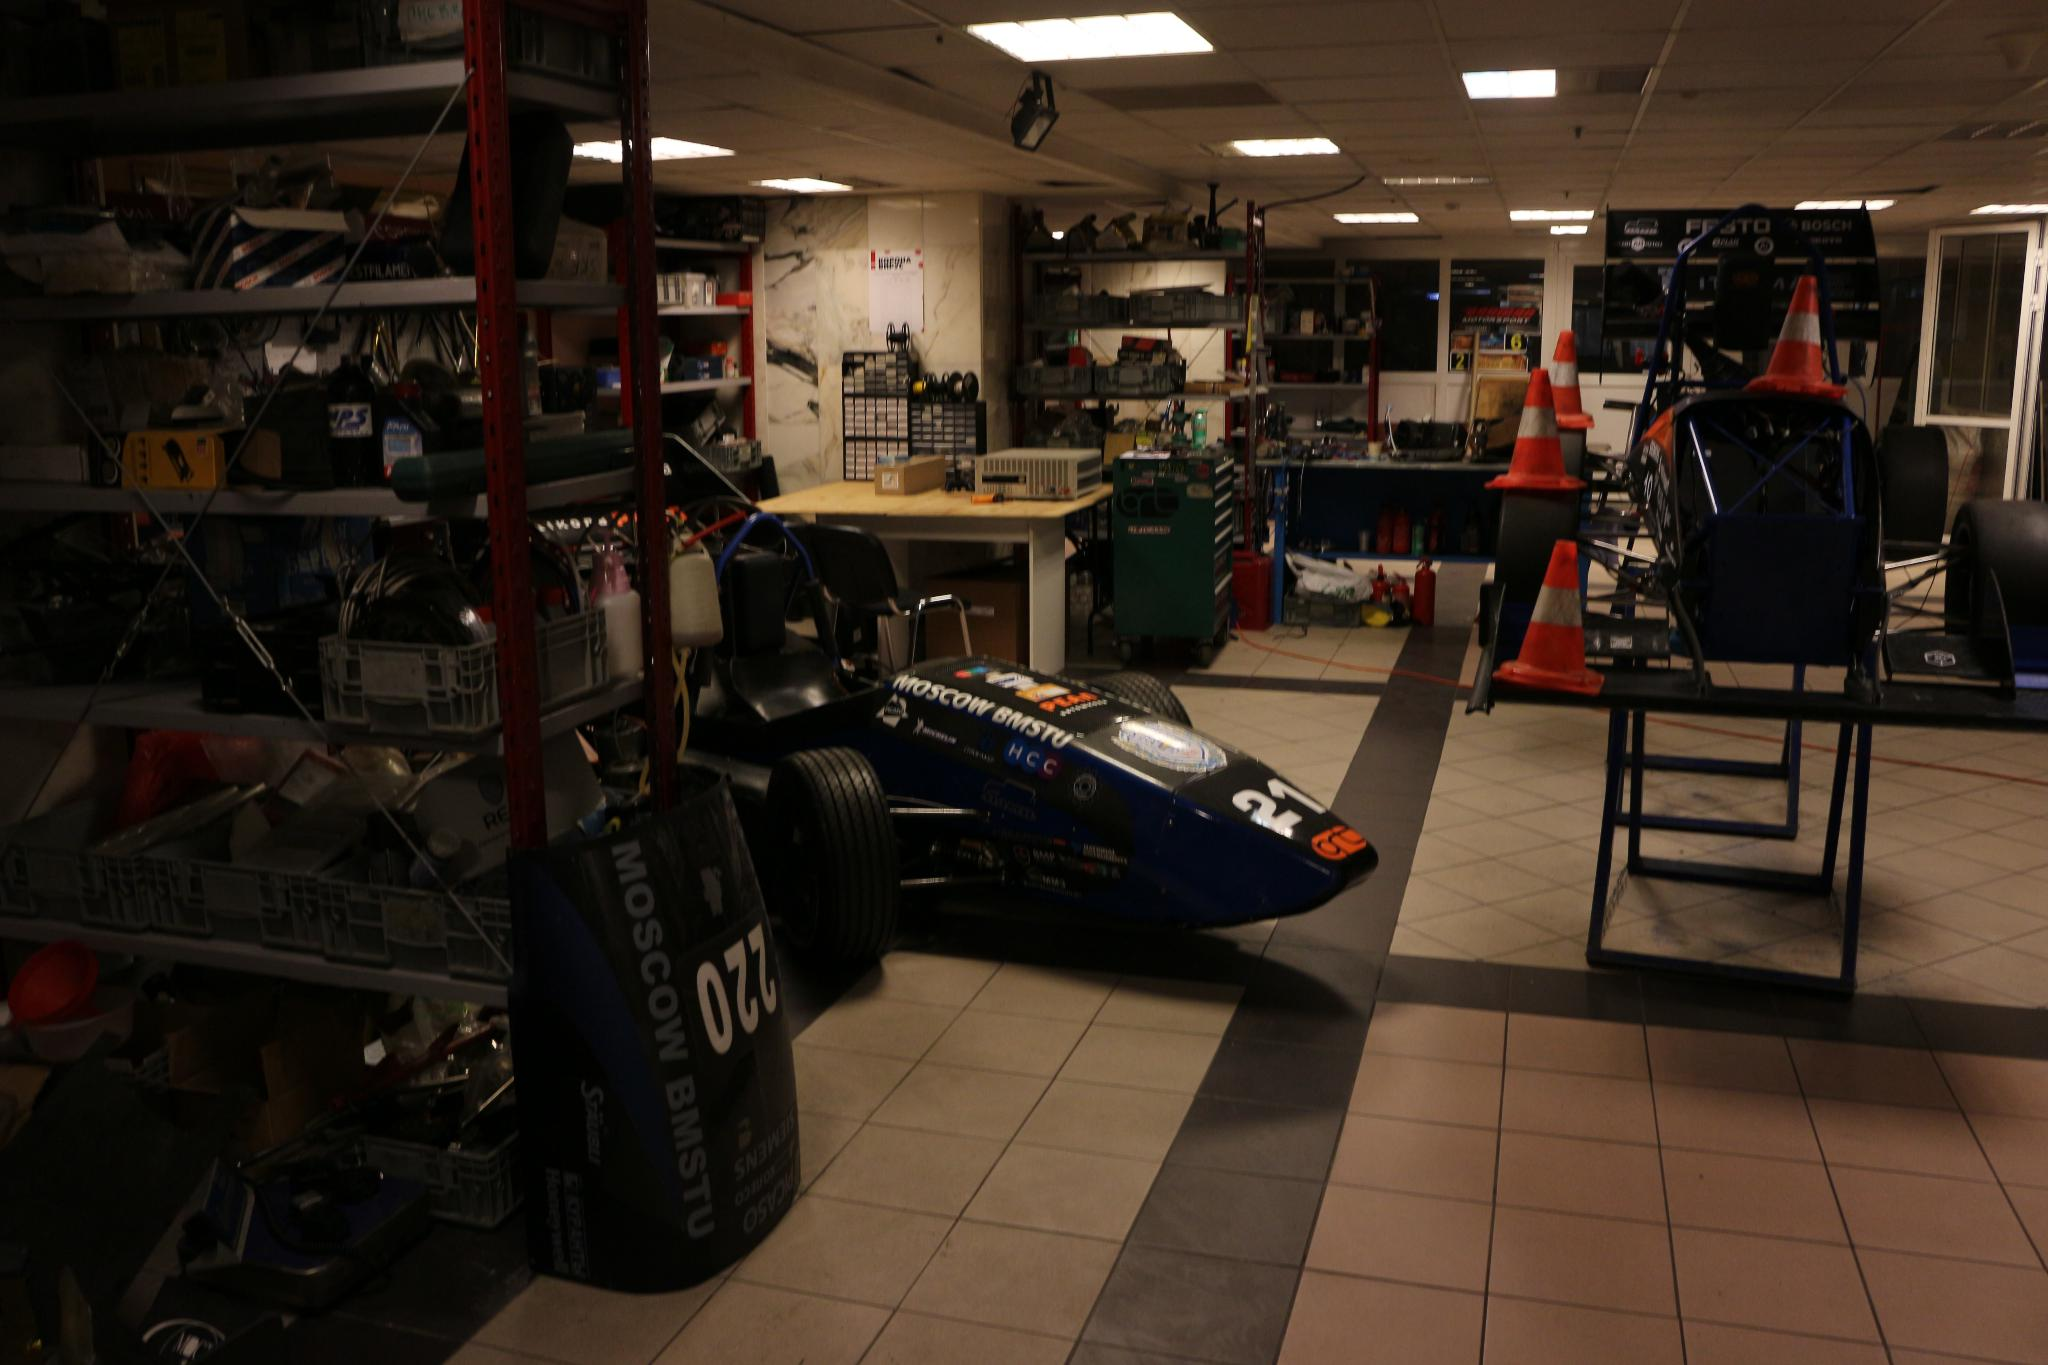Orange_Cone: (1491, 536, 1611, 695), (1745, 270, 1849, 404), (1480, 366, 1588, 494), (1527, 326, 1596, 431)
